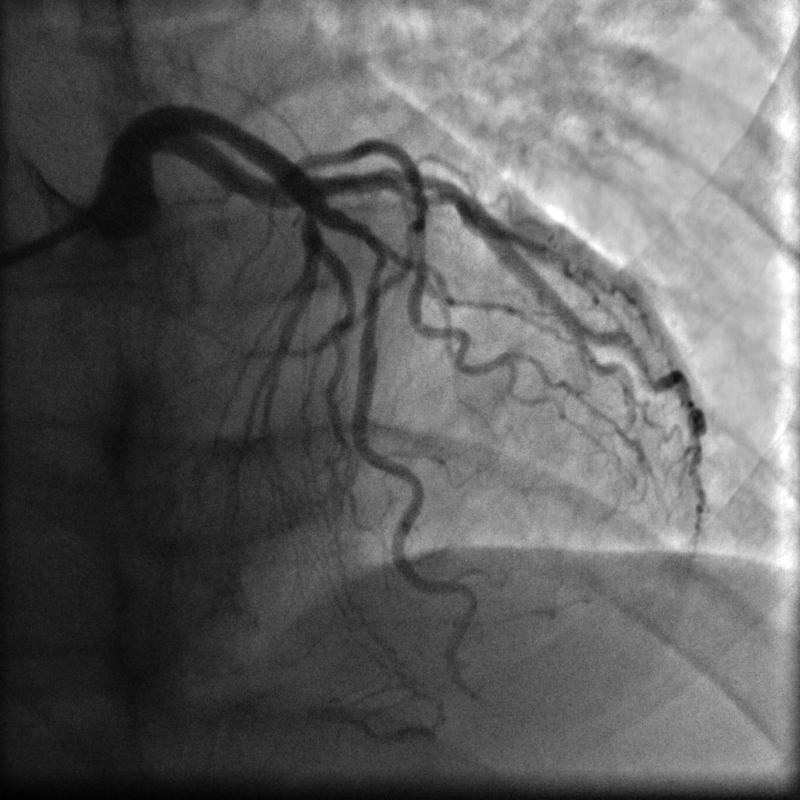Stenosis: (362, 240, 384, 317)
